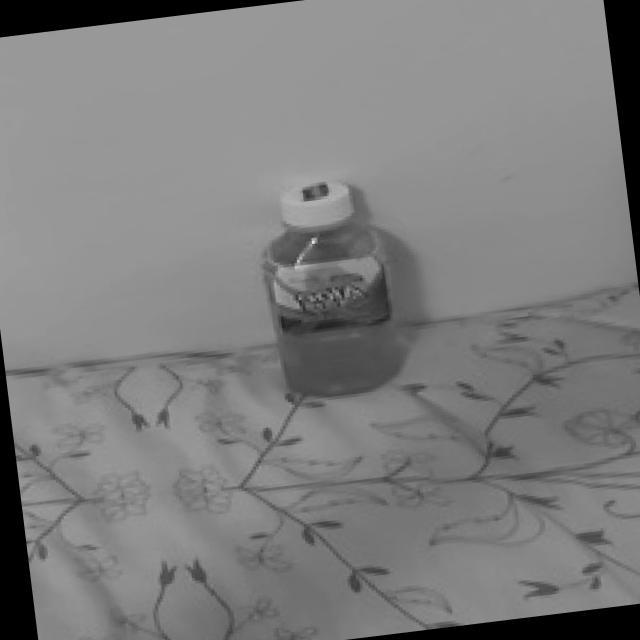good: (246, 160, 414, 412)
